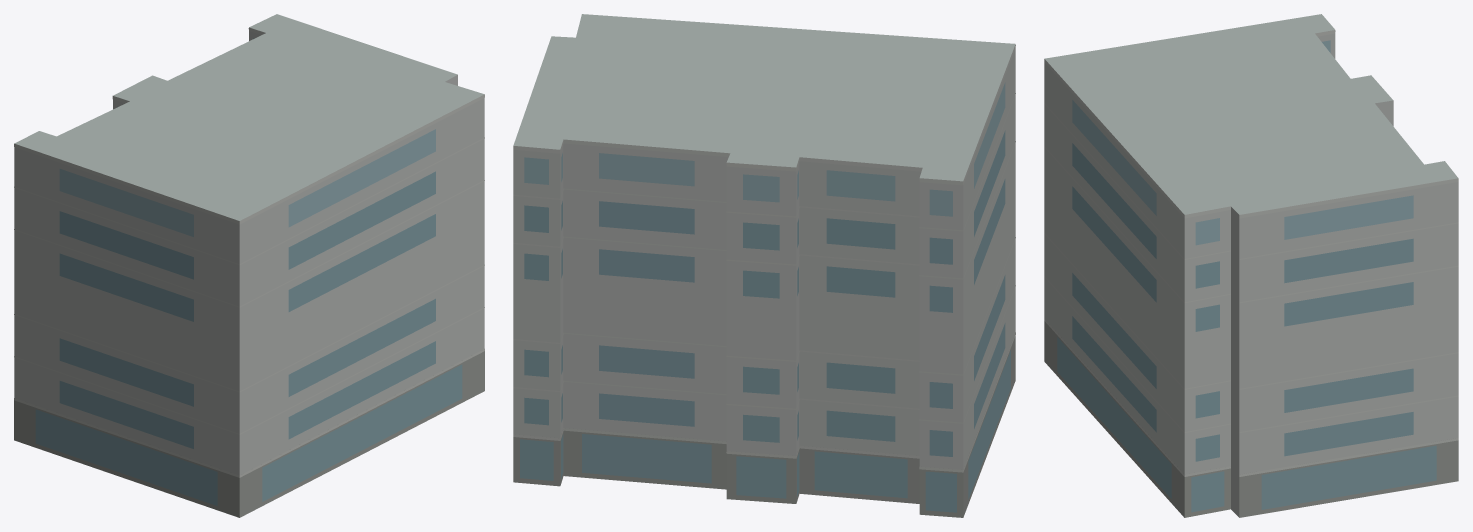
The model's file is survey-upis-33033931.glb.
3 renders of one model, left to right at view 1: azimuth 30°, elevation 25°; view 2: azimuth 150°, elevation 25°; view 3: azimuth 270°, elevation 25°, orthographic. The views are drawn at different scales.
Visible parts, largest first — view 1: survey-upis-33033931.tmp; view 2: survey-upis-33033931.tmp; view 3: survey-upis-33033931.tmp.
Boxes of the visible parts, left/top/right/bottom form: survey-upis-33033931.tmp: left=14, top=14, right=484, bottom=517; survey-upis-33033931.tmp: left=513, top=14, right=1015, bottom=517; survey-upis-33033931.tmp: left=1044, top=14, right=1458, bottom=517.
Size of the model in its own units: 29.04 by 20.4 by 25.3.
